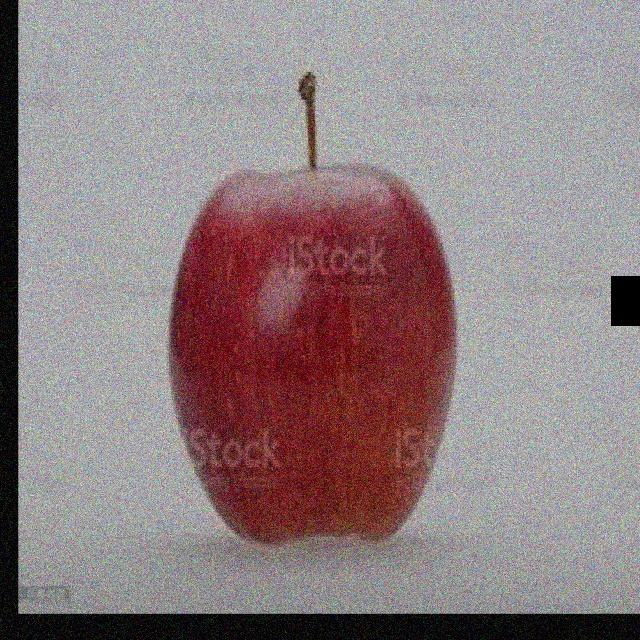red apple: (170, 155, 458, 553)
